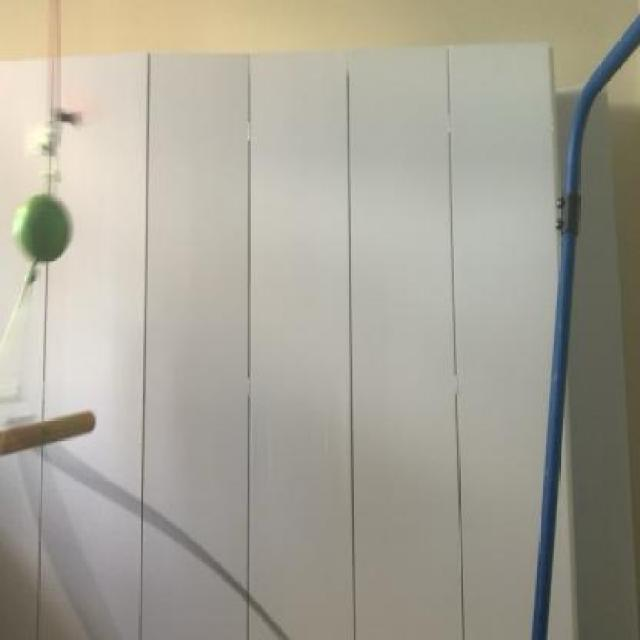baseball: (6, 188, 83, 280)
